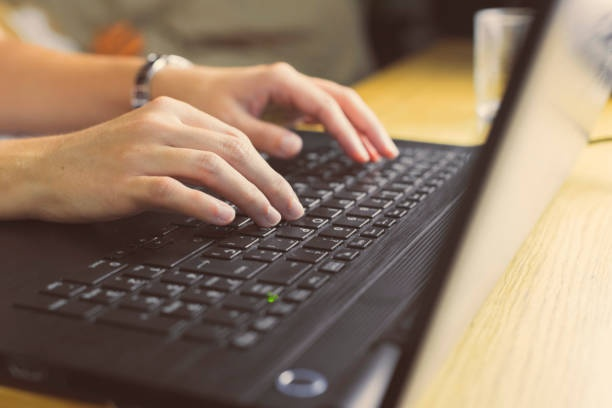keyboard: (16, 125, 469, 348)
